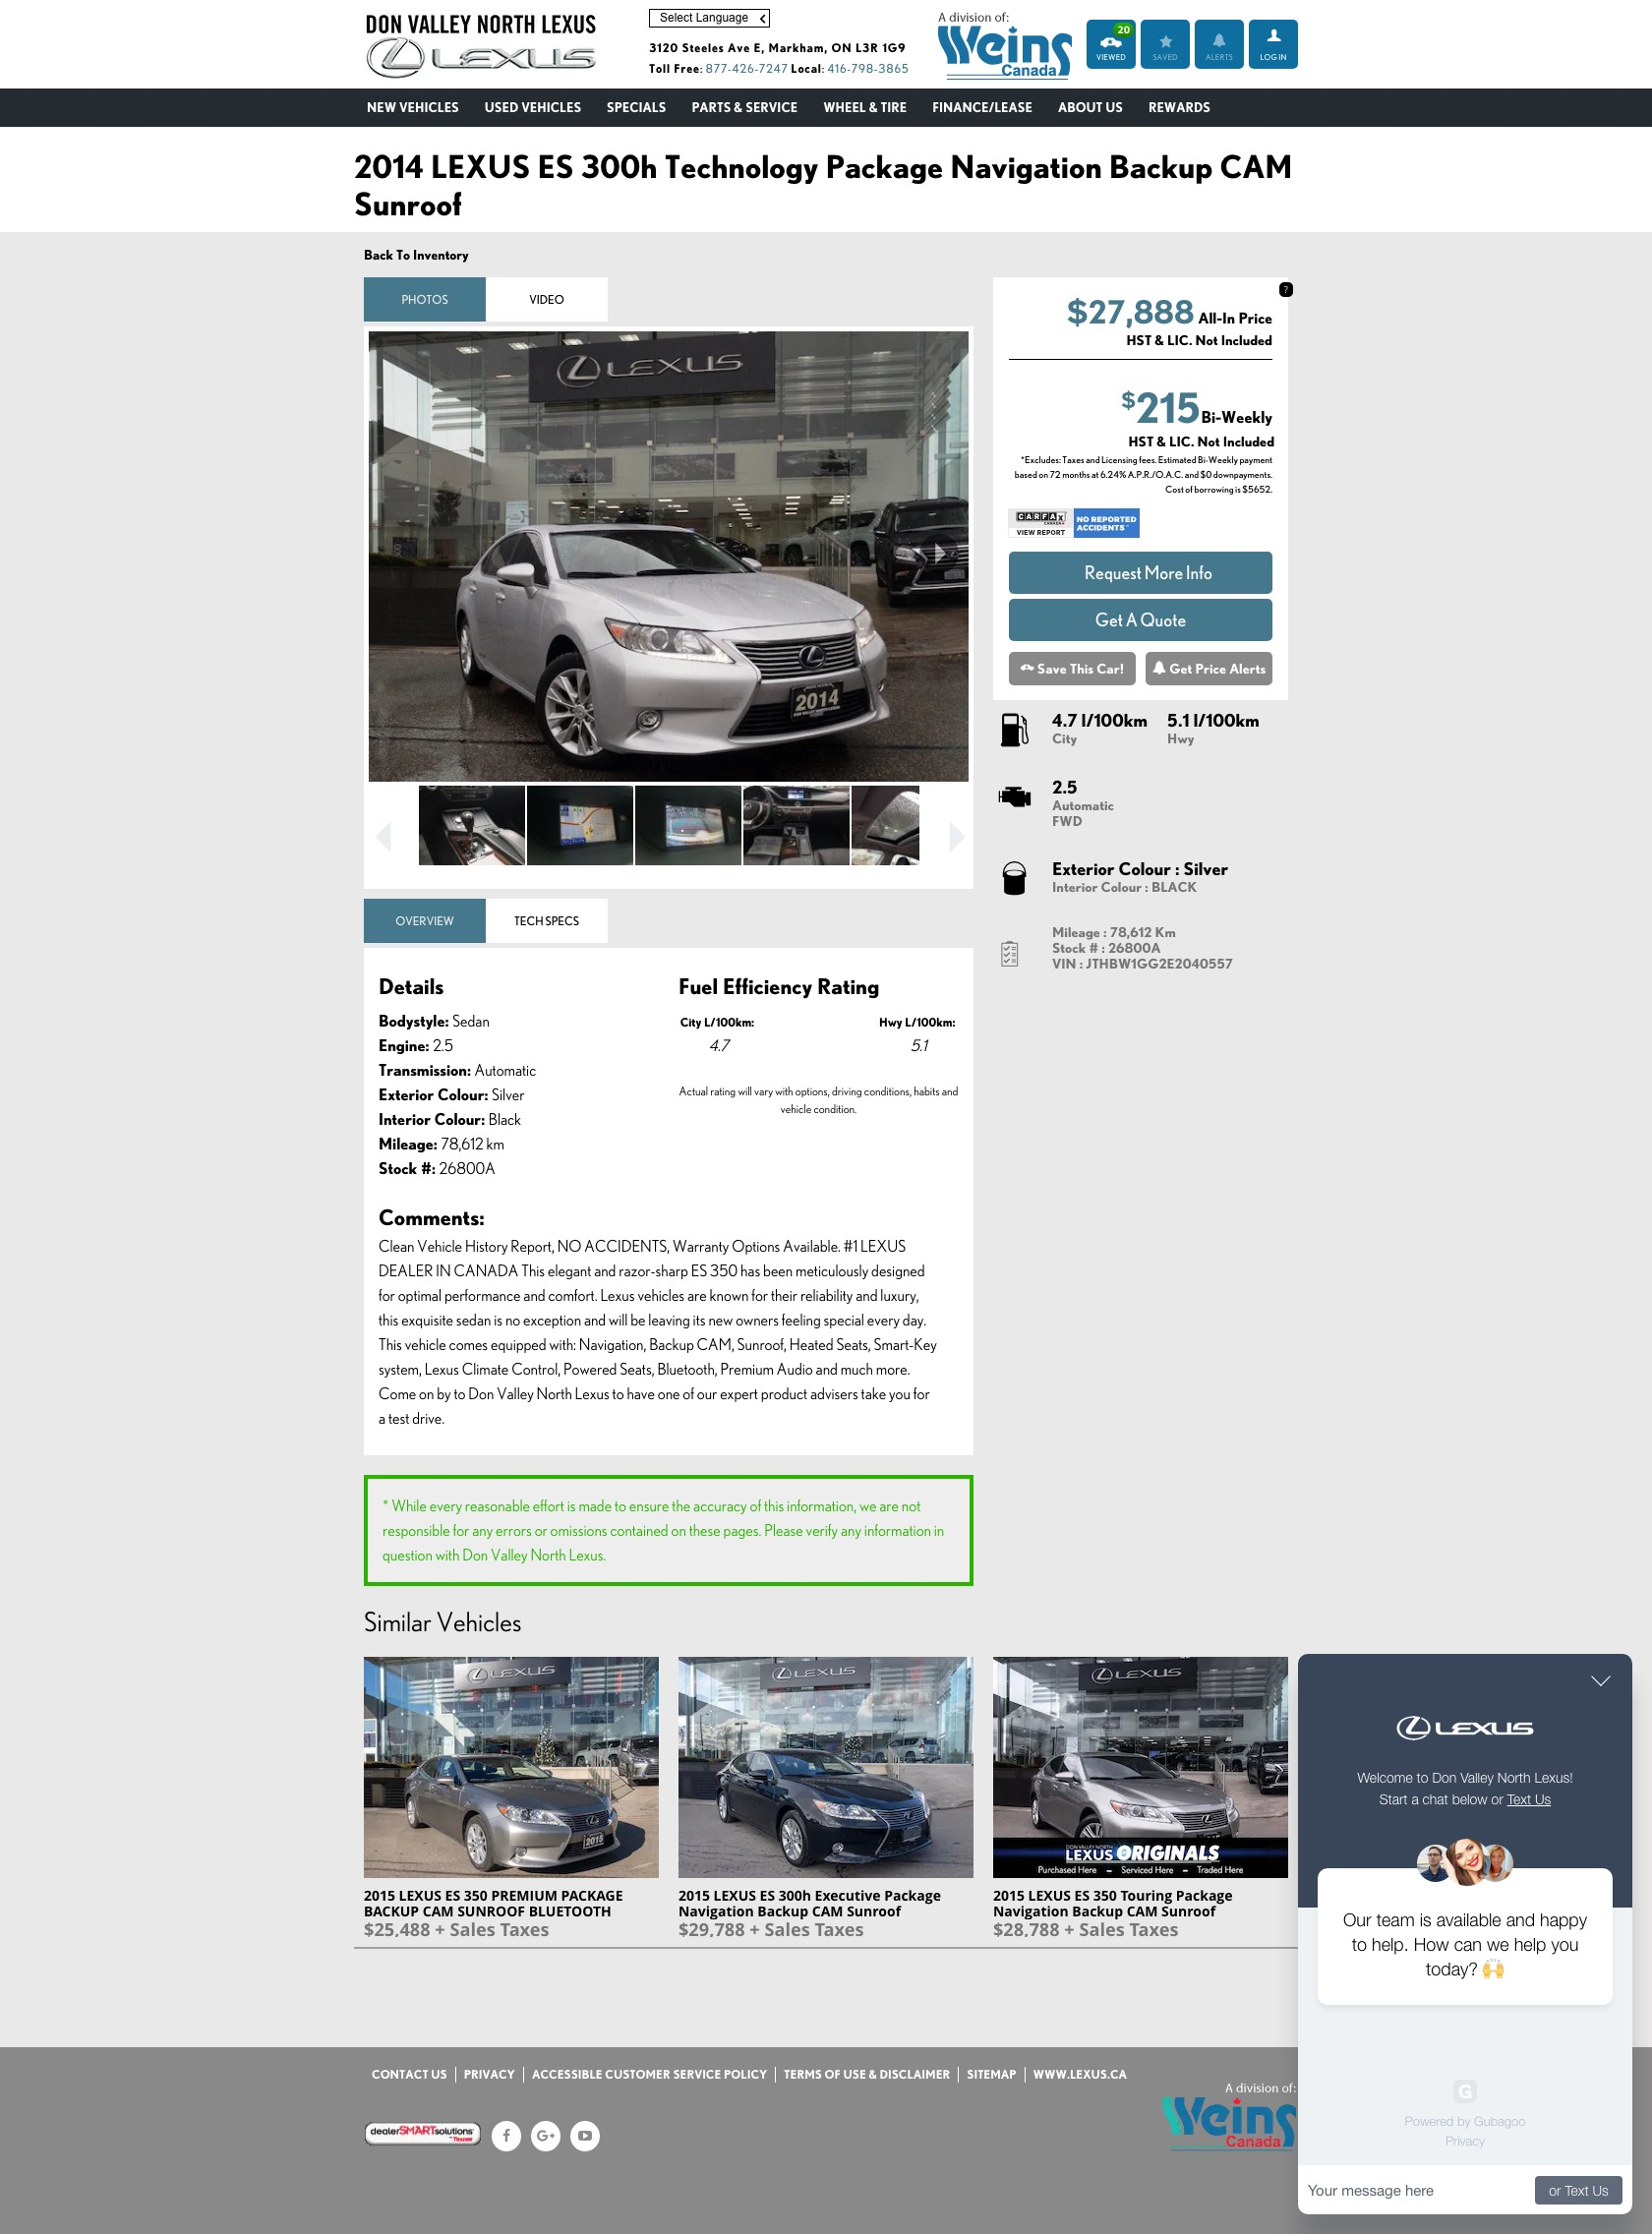car: (947, 820, 968, 853)
